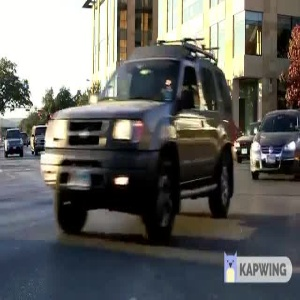car: (247, 108, 300, 182)
suv: (40, 36, 238, 232)
